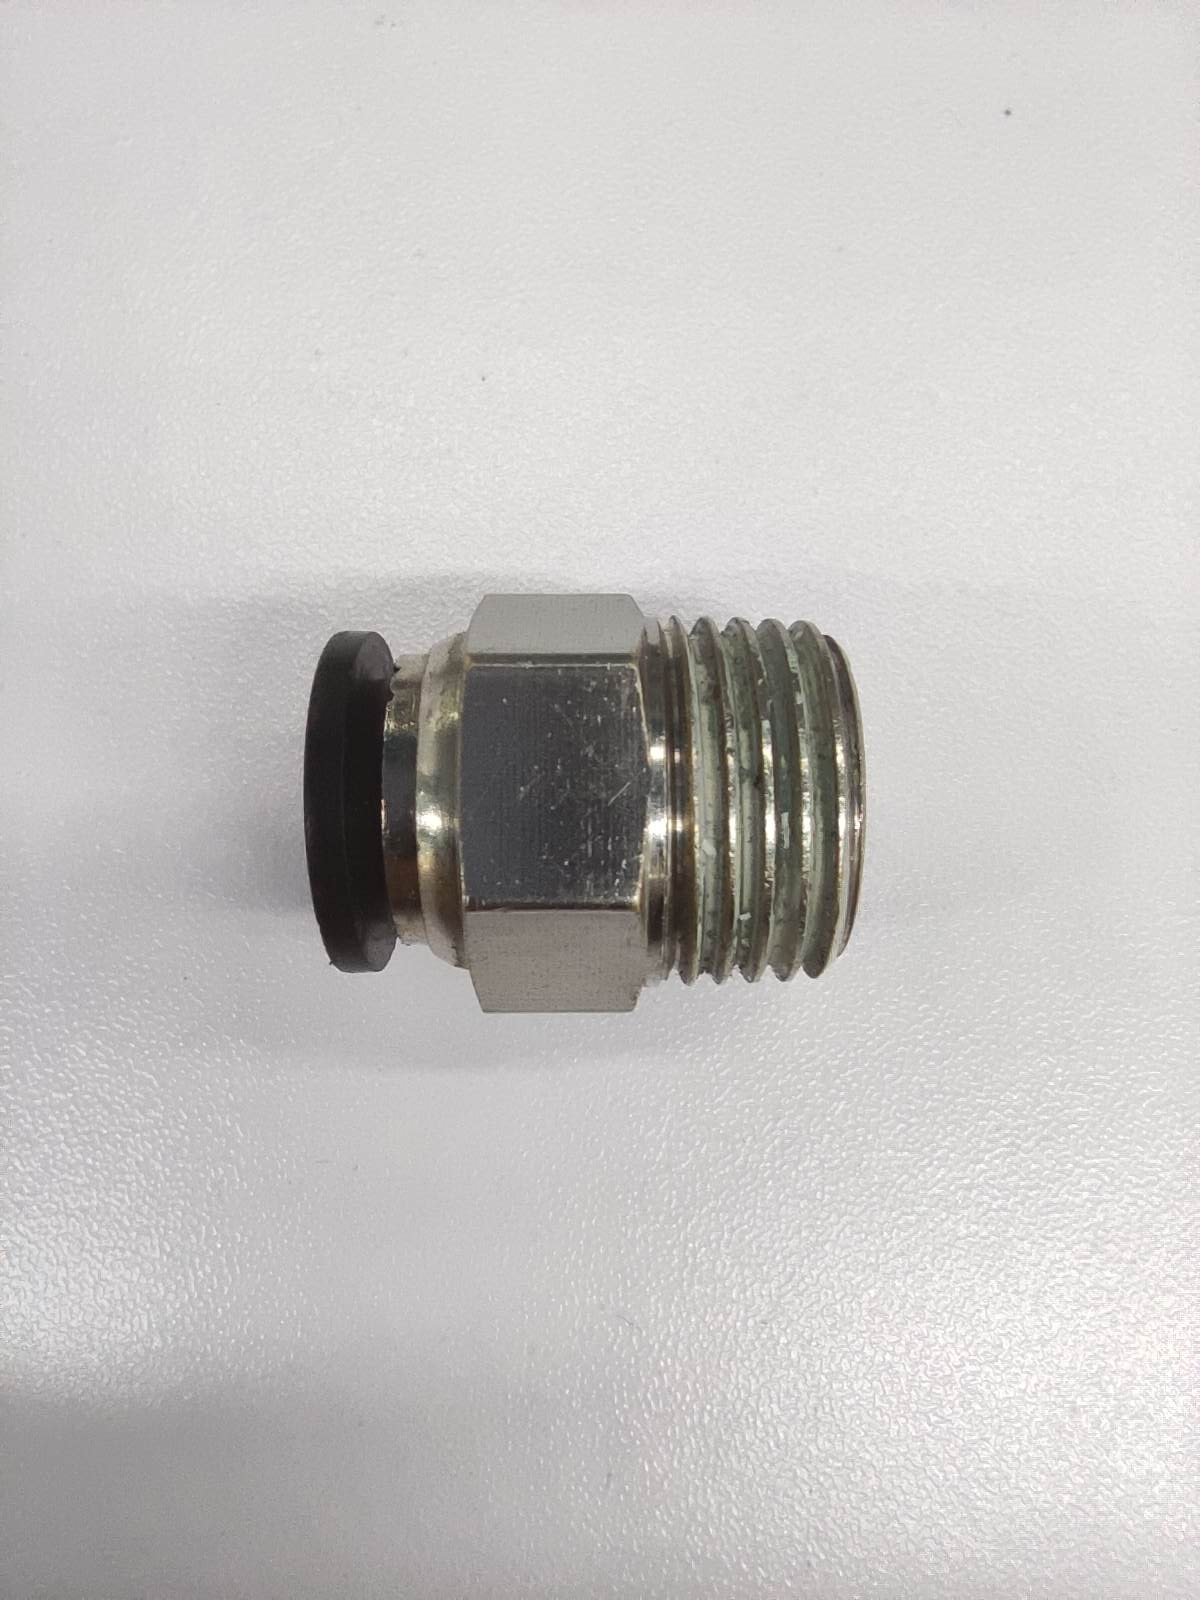水管接头银: (301, 591, 868, 1013)
